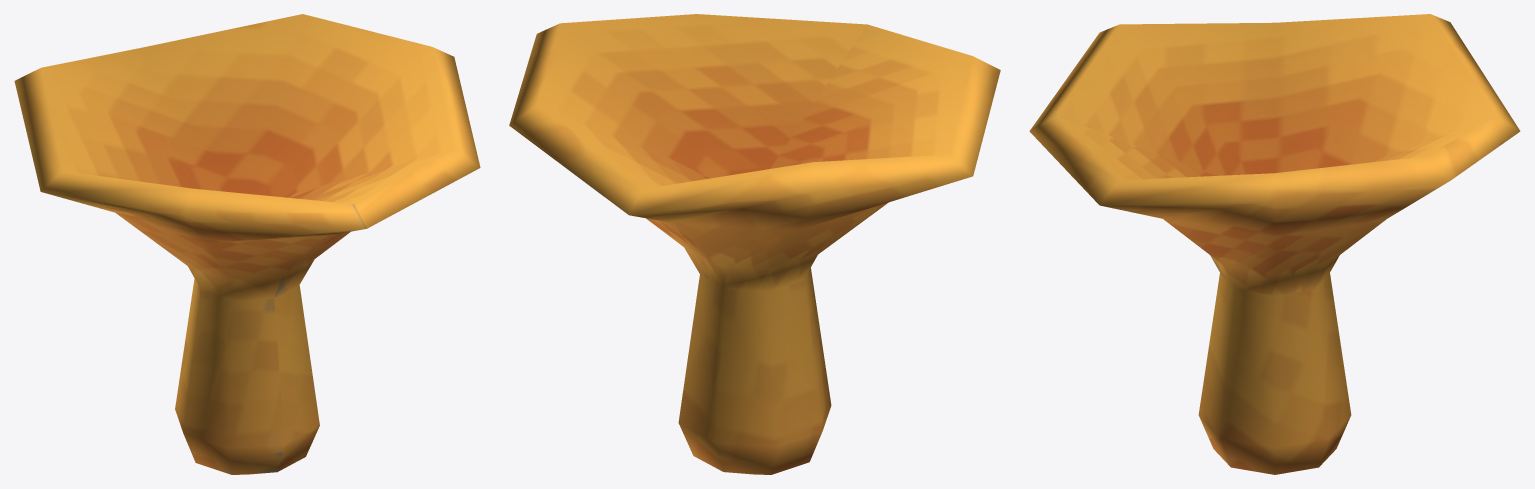
File: Mushroom_1.fbx
3 views of the same model, side by side, from view 1: azimuth 30°, elevation 25°; view 2: azimuth 150°, elevation 25°; view 3: azimuth 270°, elevation 25° (orthographic). The views are drawn at different scales.
Parts seen in each view (by area): view 1: Mushroom_1; view 2: Mushroom_1; view 3: Mushroom_1.
Part boxes in pixels (bbox=[...]): Mushroom_1: bbox=[14, 14, 480, 474]; Mushroom_1: bbox=[509, 14, 1000, 474]; Mushroom_1: bbox=[1029, 14, 1520, 474].
Size of the model in its own units: 116 by 103 by 116.
